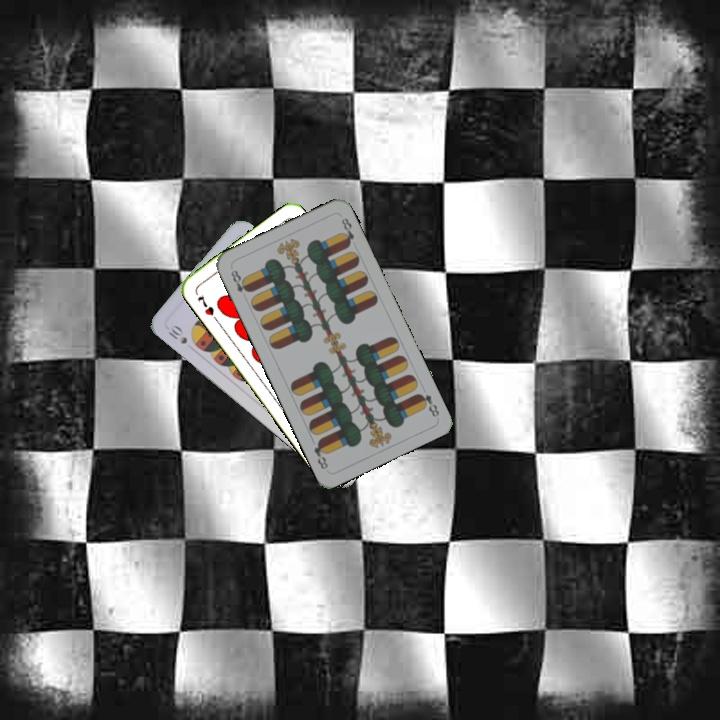E8: (413, 389, 442, 420), (227, 266, 253, 296)
H7: (193, 290, 220, 324)
S10: (164, 321, 190, 347)
